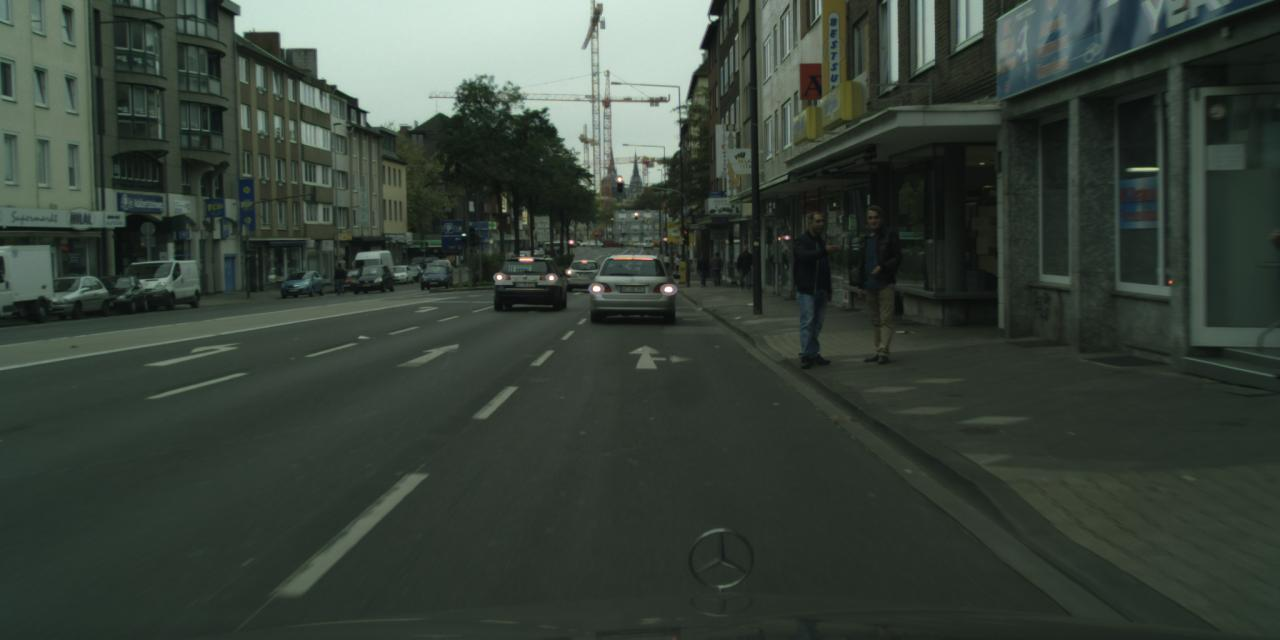ped: (844, 203, 909, 361), (782, 210, 846, 366), (736, 246, 754, 292), (696, 250, 710, 288), (710, 252, 724, 286), (333, 262, 346, 296), (662, 251, 672, 276), (673, 254, 682, 275)
